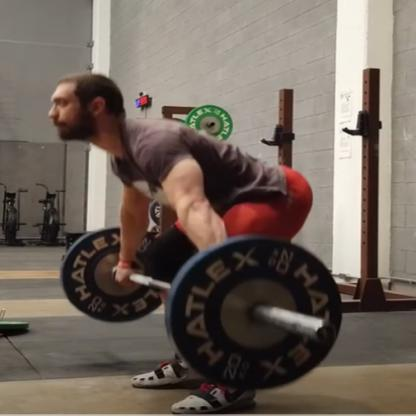Barbell: (316, 321, 341, 351), (209, 123, 220, 130)
